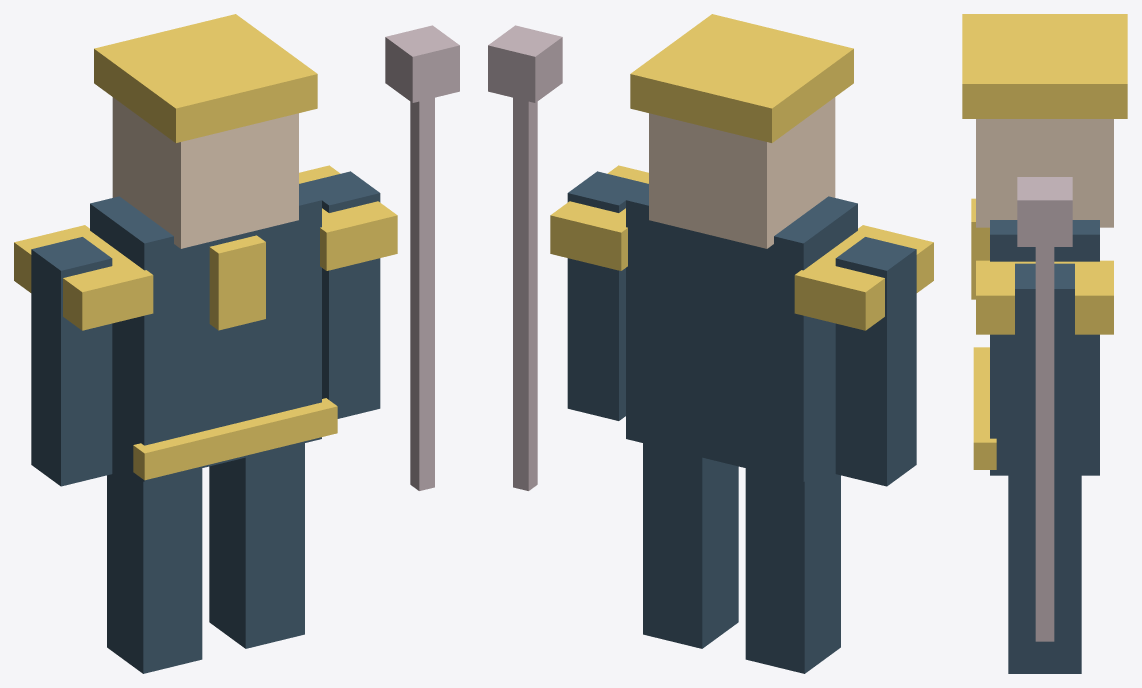
The model's file is 02_orin_dubwater_fixer_from_skyway.glb.
3 views of the same model, side by side, from view 1: azimuth 30°, elevation 25°; view 2: azimuth 150°, elevation 25°; view 3: azimuth 270°, elevation 25° (orthographic).
Visible parts, largest first — view 1: Orin Dubwater, Fixer from Skyway; view 2: Orin Dubwater, Fixer from Skyway; view 3: Orin Dubwater, Fixer from Skyway.
Part boxes in pixels (x1=…): Orin Dubwater, Fixer from Skyway: x1=14, y1=14, x2=459, y2=673; Orin Dubwater, Fixer from Skyway: x1=488, y1=14, x2=933, y2=673; Orin Dubwater, Fixer from Skyway: x1=962, y1=14, x2=1127, y2=673.
Size of the model in its own units: 1.1 by 1.52 by 0.3904.
